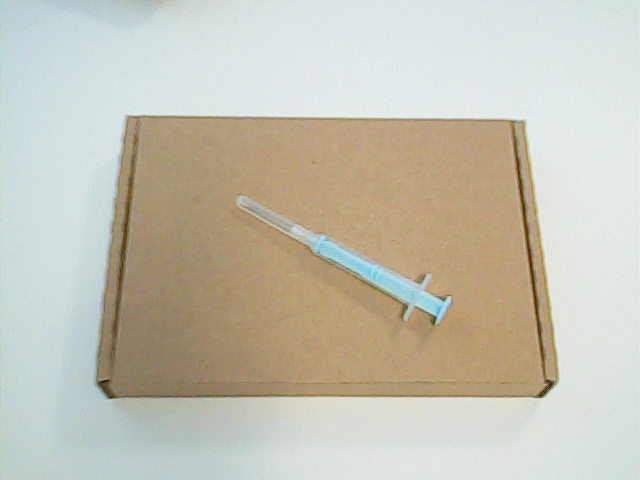syringe: (232, 187, 458, 330)
